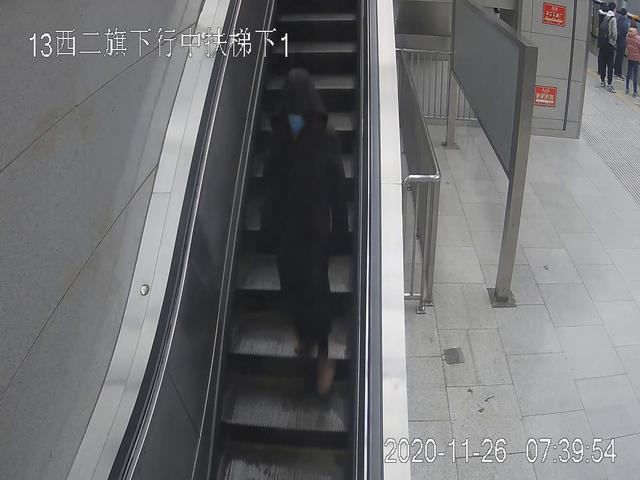person: (267, 69, 350, 393), (596, 4, 619, 94), (624, 23, 638, 93)
